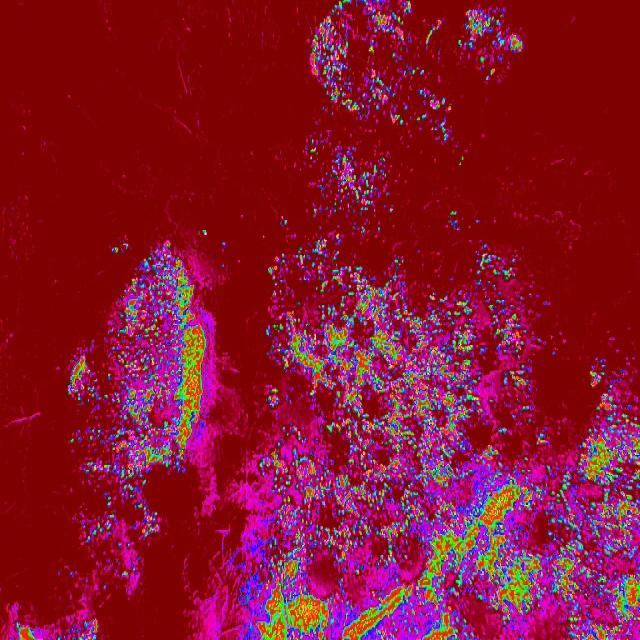fire: (264, 245, 542, 640), (108, 233, 216, 473), (60, 346, 158, 596), (304, 0, 526, 81), (587, 352, 640, 640), (542, 439, 588, 640), (304, 131, 395, 231), (318, 81, 452, 140), (243, 450, 264, 640), (0, 616, 100, 640)
